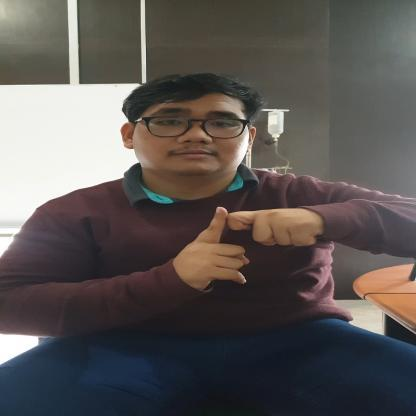K: (171, 204, 328, 294)
